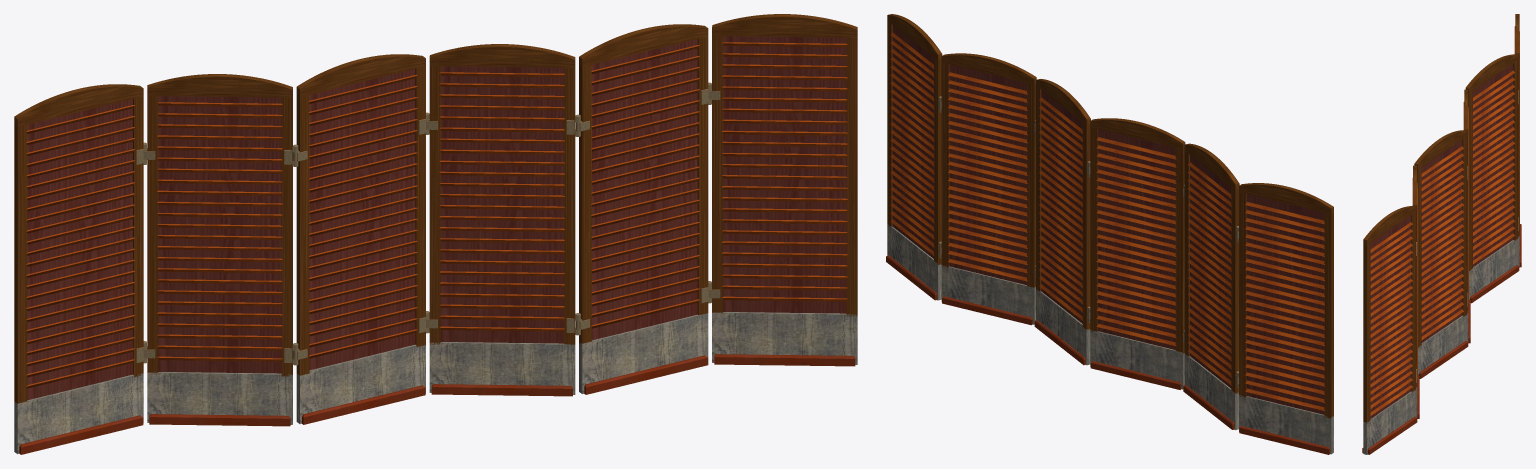
The model's file is Other_Folding_screen__0068.glb.
The picture shows the model from 3 angles, left to right: view 1: azimuth 30°, elevation 25°; view 2: azimuth 150°, elevation 25°; view 3: azimuth 270°, elevation 25°; orthographic projection. The views are drawn at different scales.
Visible parts, largest first — view 1: panel_1::louver_field, panel_5::louver_field, panel_3::louver_field, panel_2::louver_field, panel_0::louver_field, panel_4::louver_field, panel_3::bottom_rail, panel_5::bottom_rail, panel_1::bottom_rail, panel_4::bottom_rail, panel_0::bottom_rail, panel_2::bottom_rail (+24 smaller); view 2: panel_0::louver_field, panel_2::louver_field, panel_4::louver_field, panel_3::louver_field, panel_1::louver_field, panel_5::louver_field, panel_4::bottom_rail, panel_0::bottom_rail, panel_2::bottom_rail, panel_0::stile_0, panel_2::stile_0, panel_4::stile_0 (+24 smaller); view 3: panel_5::louver_field, panel_3::louver_field, panel_1::louver_field, panel_5::bottom_rail, panel_5::stile_1, panel_1::bottom_rail, panel_3::bottom_rail, panel_3::stile_0, panel_1::stile_0, panel_5::stile_0, panel_3::stile_1, panel_5::crown_arch (+84 smaller).
Boxes of the visible parts, box(x1,y1,x2,y2) form: panel_1::louver_field: box(158, 96, 281, 373); panel_5::louver_field: box(723, 36, 846, 313); panel_3::louver_field: box(441, 66, 563, 343); panel_2::louver_field: box(309, 69, 415, 370); panel_0::louver_field: box(27, 99, 132, 400); panel_4::louver_field: box(592, 39, 697, 340); panel_3::bottom_rail: box(429, 342, 575, 394); panel_5::bottom_rail: box(712, 312, 857, 364); panel_1::bottom_rail: box(147, 372, 292, 424); panel_4::bottom_rail: box(579, 313, 708, 393); panel_0::bottom_rail: box(14, 373, 143, 454); panel_2::bottom_rail: box(296, 344, 425, 423); panel_0::louver_field: box(1246, 194, 1324, 414); panel_2::louver_field: box(1098, 129, 1175, 349); panel_4::louver_field: box(949, 64, 1026, 285); panel_3::louver_field: box(1041, 90, 1082, 323); panel_1::louver_field: box(1190, 155, 1231, 388); panel_5::louver_field: box(892, 25, 933, 258); panel_4::bottom_rail: box(941, 265, 1035, 324); panel_0::bottom_rail: box(1239, 395, 1333, 454); panel_2::bottom_rail: box(1090, 330, 1184, 389); panel_0::stile_0: box(1324, 211, 1333, 418); panel_2::stile_0: box(1175, 147, 1184, 353); panel_4::stile_0: box(1027, 81, 1035, 288); panel_5::louver_field: box(1370, 215, 1411, 418); panel_3::louver_field: box(1421, 140, 1462, 342); panel_1::louver_field: box(1473, 64, 1513, 266); panel_5::bottom_rail: box(1363, 389, 1415, 454); panel_5::stile_1: box(1363, 242, 1370, 423); panel_1::bottom_rail: box(1469, 238, 1518, 299); panel_3::bottom_rail: box(1418, 315, 1467, 375); panel_3::stile_0: box(1462, 135, 1467, 316); panel_1::stile_0: box(1513, 59, 1518, 240); panel_5::stile_0: box(1411, 211, 1415, 392); panel_3::stile_1: box(1417, 166, 1421, 347); panel_5::crown_arch: box(1363, 206, 1415, 245).
Size of the model in its own units: 3.76 by 1.72 by 1.12.
6 materials, 6 textured.
